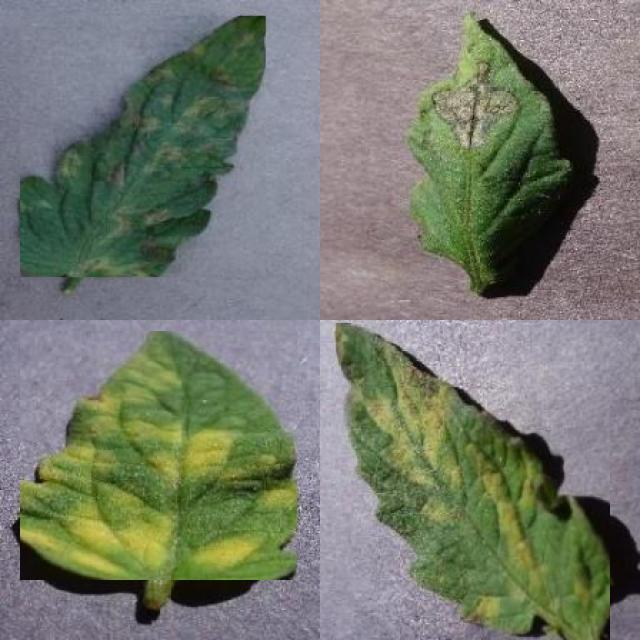Early Blight: (411, 10, 575, 293)
Leaf Mold: (336, 323, 610, 640), (20, 330, 297, 580), (20, 16, 266, 277)
